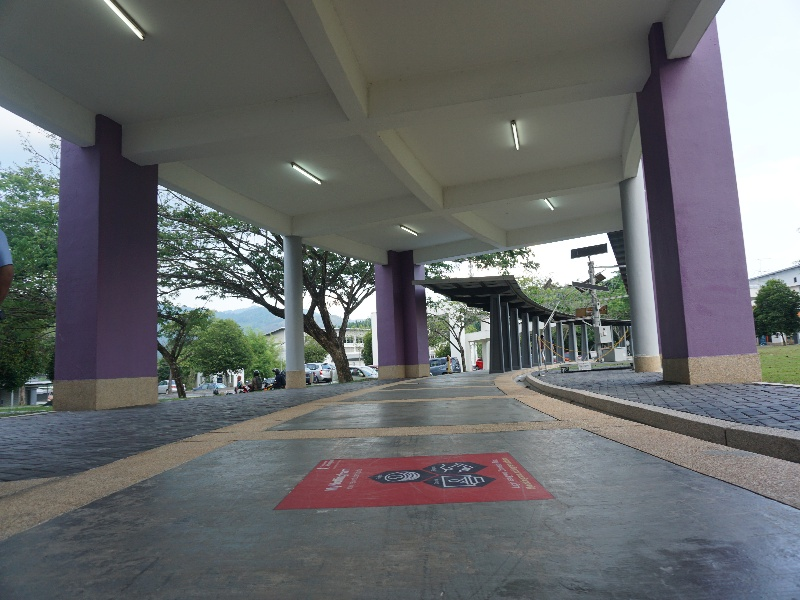Block D Pillar 4: (8, 7, 800, 455)
pillar: (632, 18, 770, 393), (62, 120, 161, 407), (372, 245, 433, 388), (273, 225, 314, 400)
